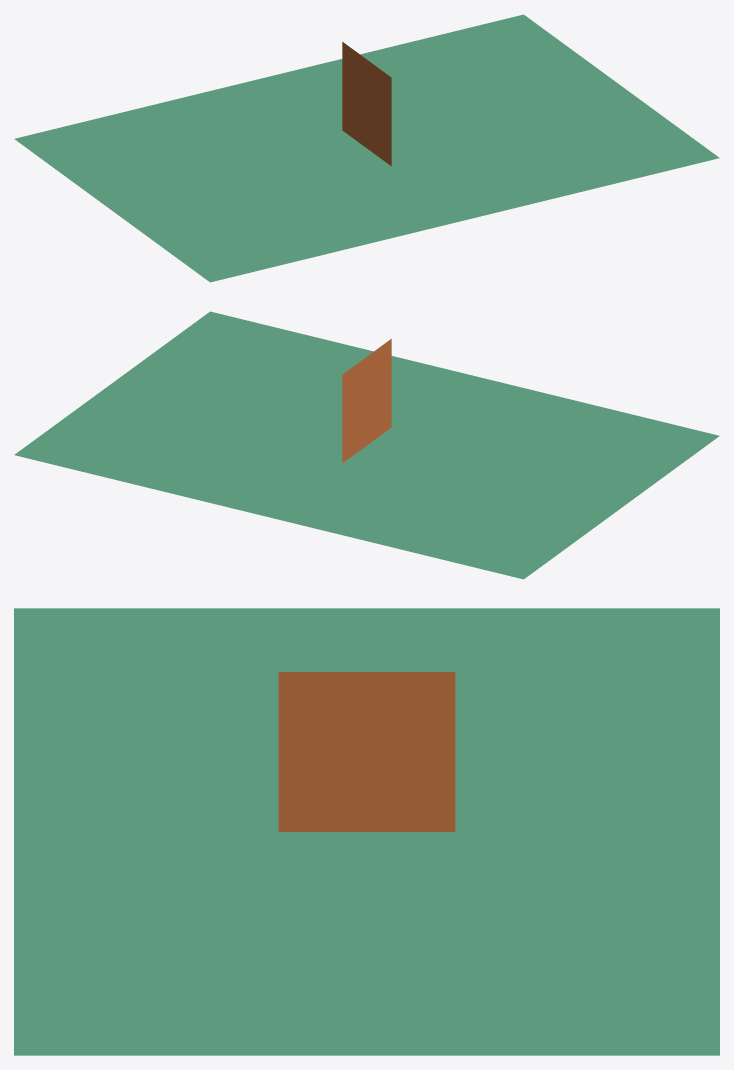
Rendered from prop.glb.
3 renders of one model, top to bottom at view 1: azimuth 30°, elevation 25°; view 2: azimuth 150°, elevation 25°; view 3: azimuth 270°, elevation 25°, orthographic. The views are drawn at different scales.
Visible parts, largest first — view 1: Level; view 2: Level; view 3: Level.
Part boxes in pixels (bbox=[...]): Level: bbox=[14, 14, 719, 282]; Level: bbox=[14, 311, 719, 579]; Level: bbox=[14, 608, 719, 1055].
Bounding box in the file's own units: 12 × 2 × 8.
